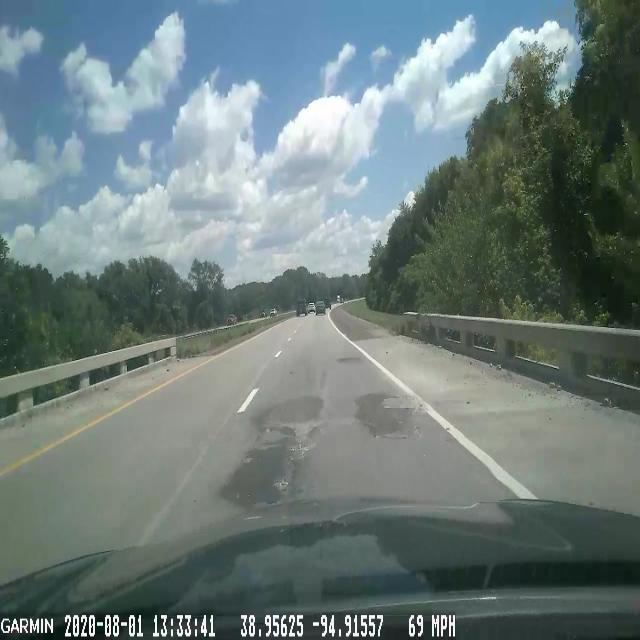Pothole: (214, 409, 319, 511), (347, 379, 427, 449)
